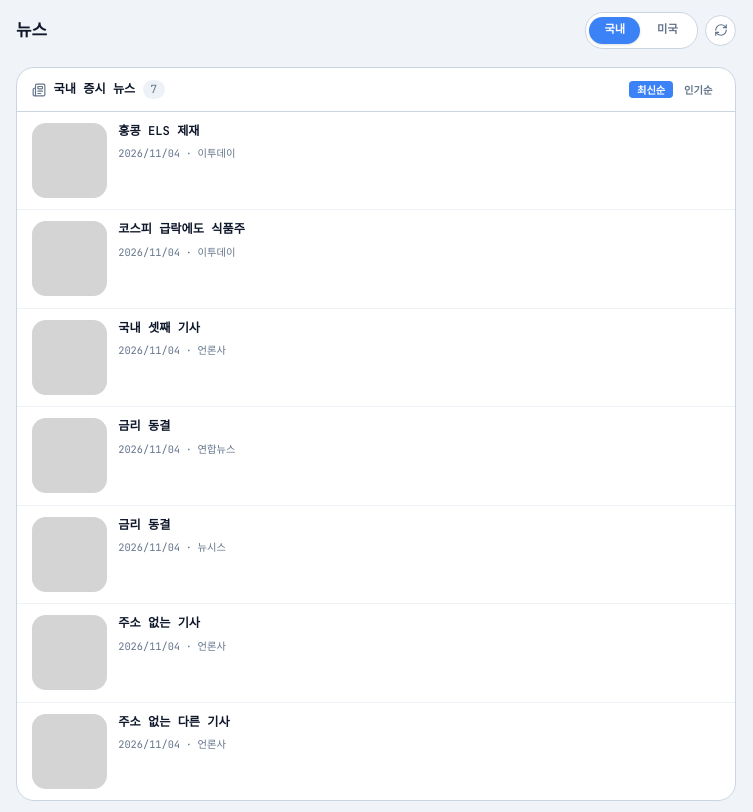
국내·미국을 오가도 기사가 안 섞인다 › 미국으로 바꾸면 국내 기사가 하나도 안 남는다 — 몇 번을 오가도
Step 1. Click the tab "미국" → point(667, 30), box x1=642 y1=17 x2=693 y2=44
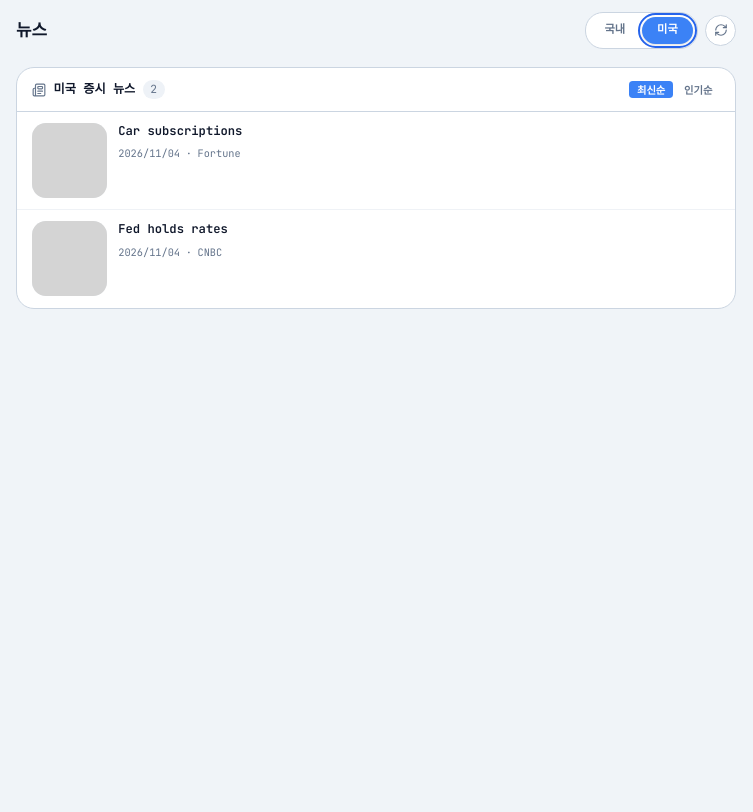
Expected: the text "Car subscriptions" is shown, x1=118 y1=123 x2=242 y2=139
Expected: the link "홍콩 ELS 제재" is gone
Expected: the link "코스피 급락에도 식품주" is gone
Step 2. Click the tab "국내" → point(615, 30), box x1=590 y1=17 x2=640 y2=44
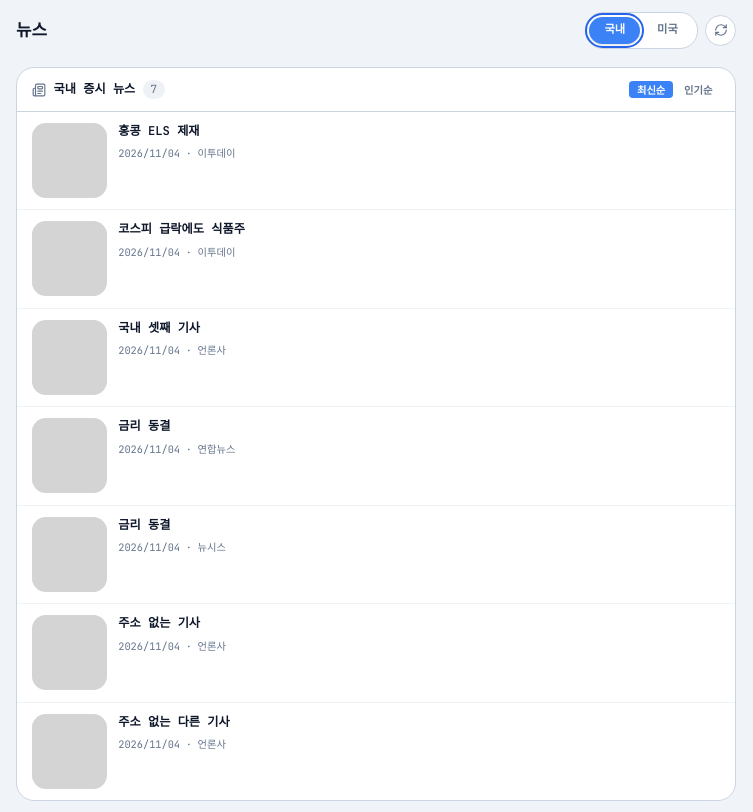
Expected: the link "Car subscriptions" is gone
Expected: the link "Fed holds rates" is gone
Step 3. Click the tab "미국" → point(667, 30), box x1=642 y1=17 x2=693 y2=44
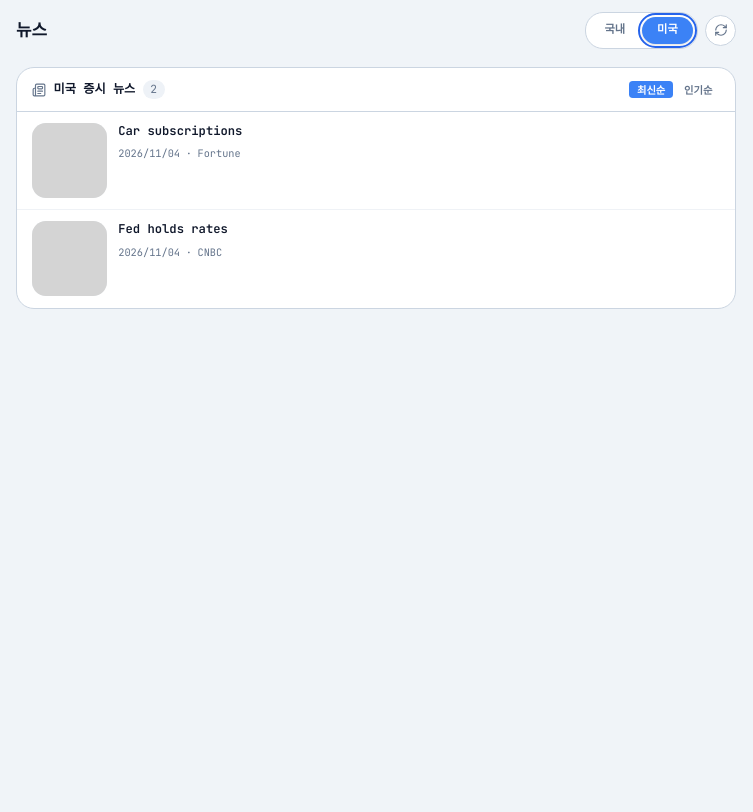
Expected: the text "Car subscriptions" is shown, x1=118 y1=123 x2=242 y2=139
Expected: the link "홍콩 ELS 제재" is gone
Expected: the link "코스피 급락에도 식품주" is gone
Step 4. Click the tab "국내" → point(615, 30), box x1=590 y1=17 x2=640 y2=44
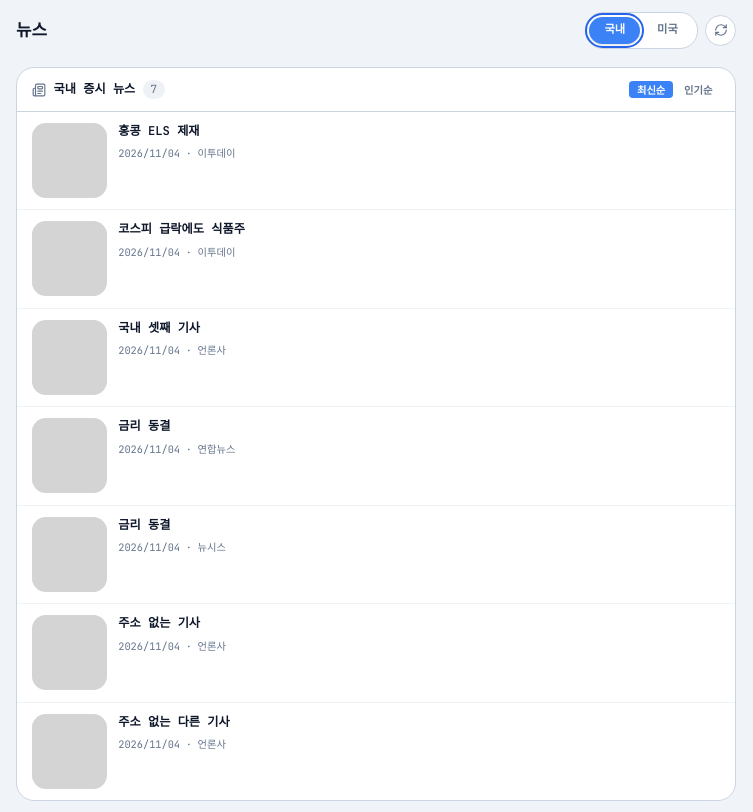
Expected: the link "Car subscriptions" is gone
Expected: the link "Fed holds rates" is gone
Step 5. Click the tab "미국" → point(667, 30), box x1=642 y1=17 x2=693 y2=44
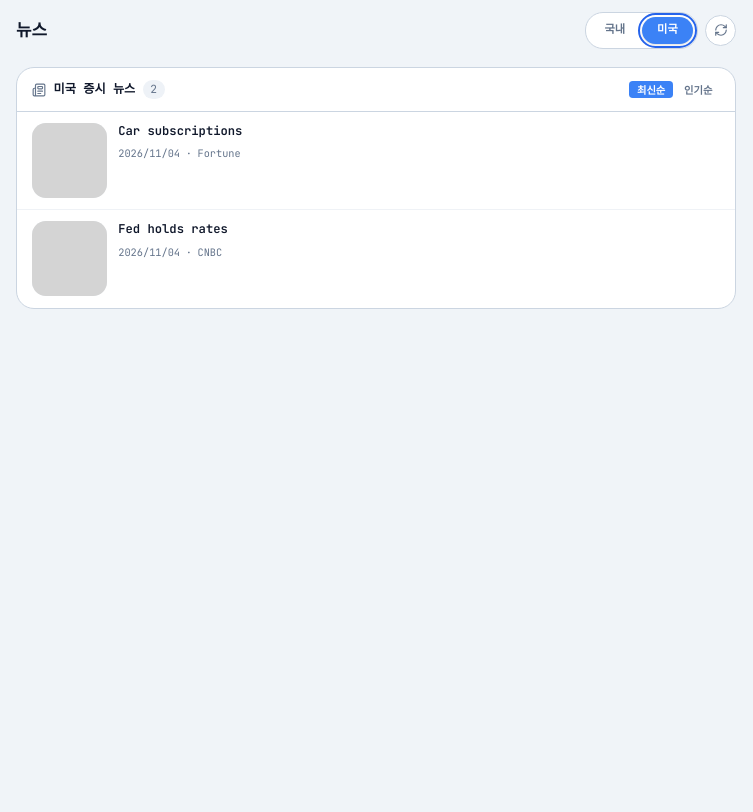
Expected: the text "Car subscriptions" is shown, x1=118 y1=123 x2=242 y2=139
Expected: the link "홍콩 ELS 제재" is gone
Expected: the link "코스피 급락에도 식품주" is gone
Step 6. Click the tab "국내" → point(615, 30), box x1=590 y1=17 x2=640 y2=44
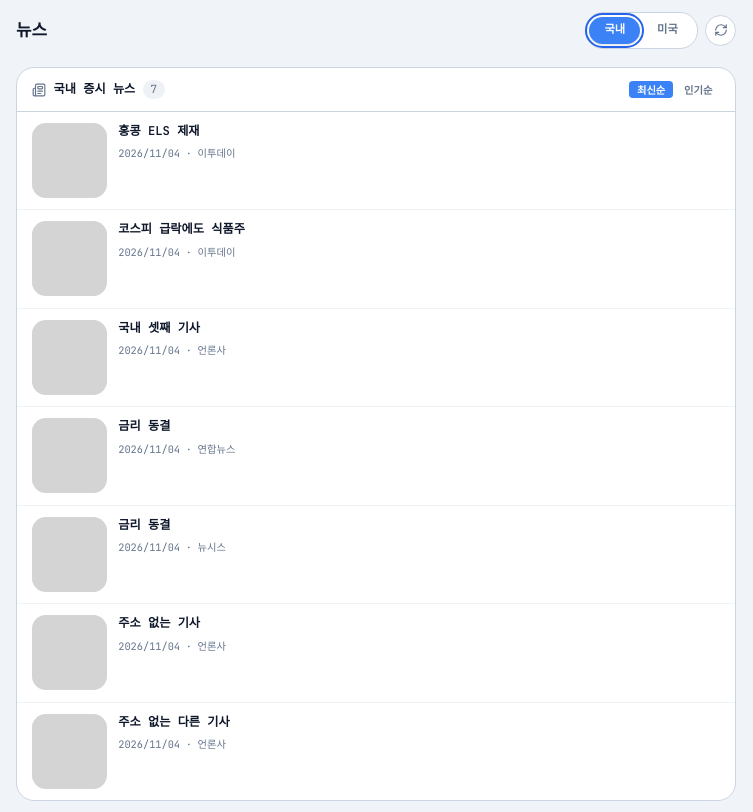
Expected: the link "Car subscriptions" is gone
Expected: the link "Fed holds rates" is gone
